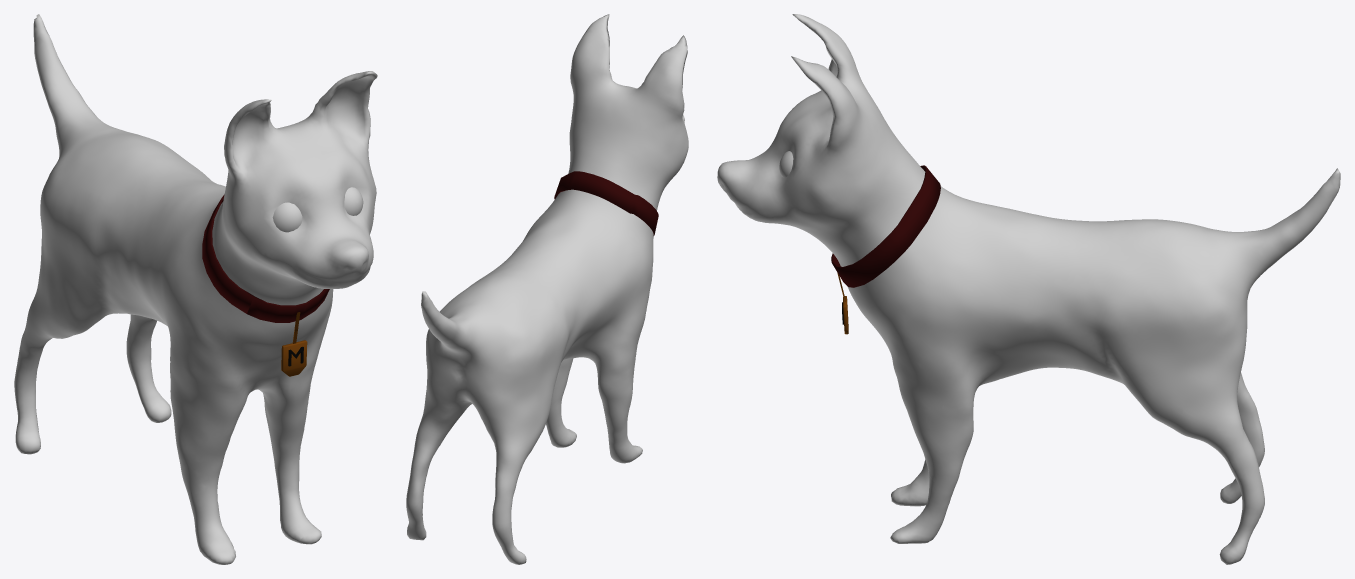
Rendered from white_dog.obj.
3 renders of one model, left to right at view 1: azimuth 30°, elevation 25°; view 2: azimuth 150°, elevation 25°; view 3: azimuth 270°, elevation 25°, orthographic. The views are drawn at different scales.
Visible parts, largest first — view 1: Doguinho_low_poly, collar; view 2: Doguinho_low_poly, collar; view 3: Doguinho_low_poly, collar.
Part boxes in pixels (x1=…): Doguinho_low_poly: x1=14, y1=14, x2=377, y2=564; collar: x1=202, y1=194, x2=329, y2=376; Doguinho_low_poly: x1=406, y1=14, x2=688, y2=564; collar: x1=554, y1=171, x2=658, y2=235; Doguinho_low_poly: x1=717, y1=14, x2=1340, y2=564; collar: x1=831, y1=165, x2=940, y2=334.
Size of the model in its own units: 2.8 by 9.15 by 10.41.
